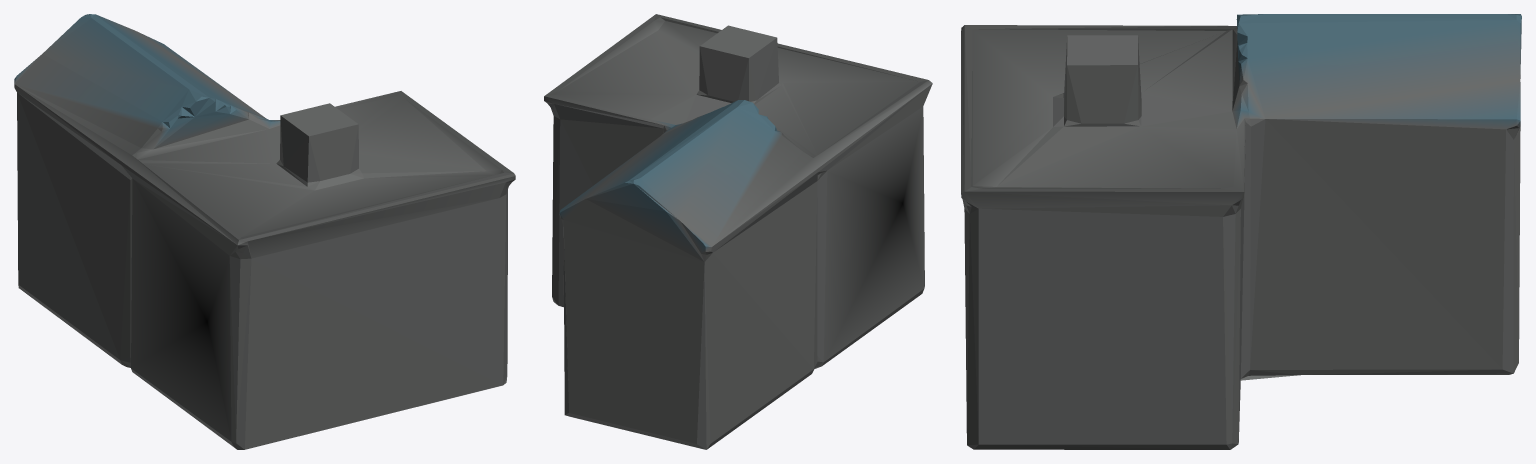
The model's file is Apartment Buildings(2).glb.
3 renders of one model, left to right at view 1: azimuth 30°, elevation 25°; view 2: azimuth 150°, elevation 25°; view 3: azimuth 270°, elevation 25°, orthographic. The views are drawn at different scales.
Visible parts, largest first — view 1: Root; view 2: Root; view 3: Root.
Part boxes in pixels (left/top/right/bottom): Root: left=14, top=14, right=515, bottom=449; Root: left=544, top=14, right=932, bottom=449; Root: left=961, top=14, right=1521, bottom=449.
Bounding box in the file's own units: 15.36 × 13.7 × 21.7.
